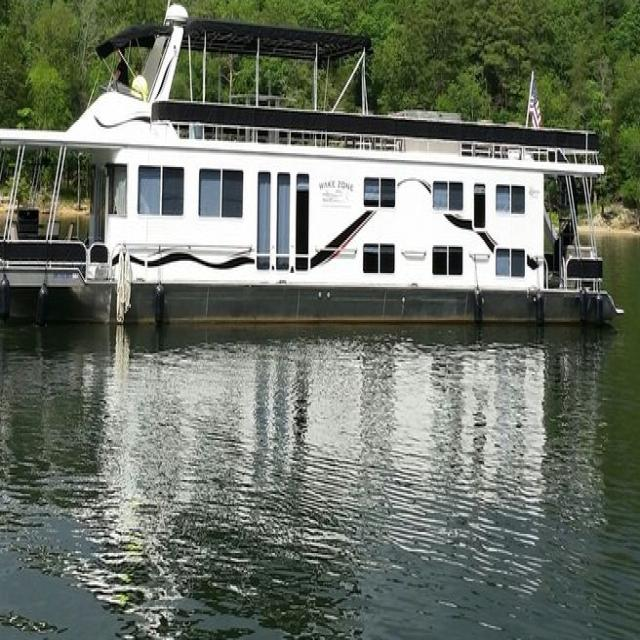passenger ship: (0, 0, 627, 328)
